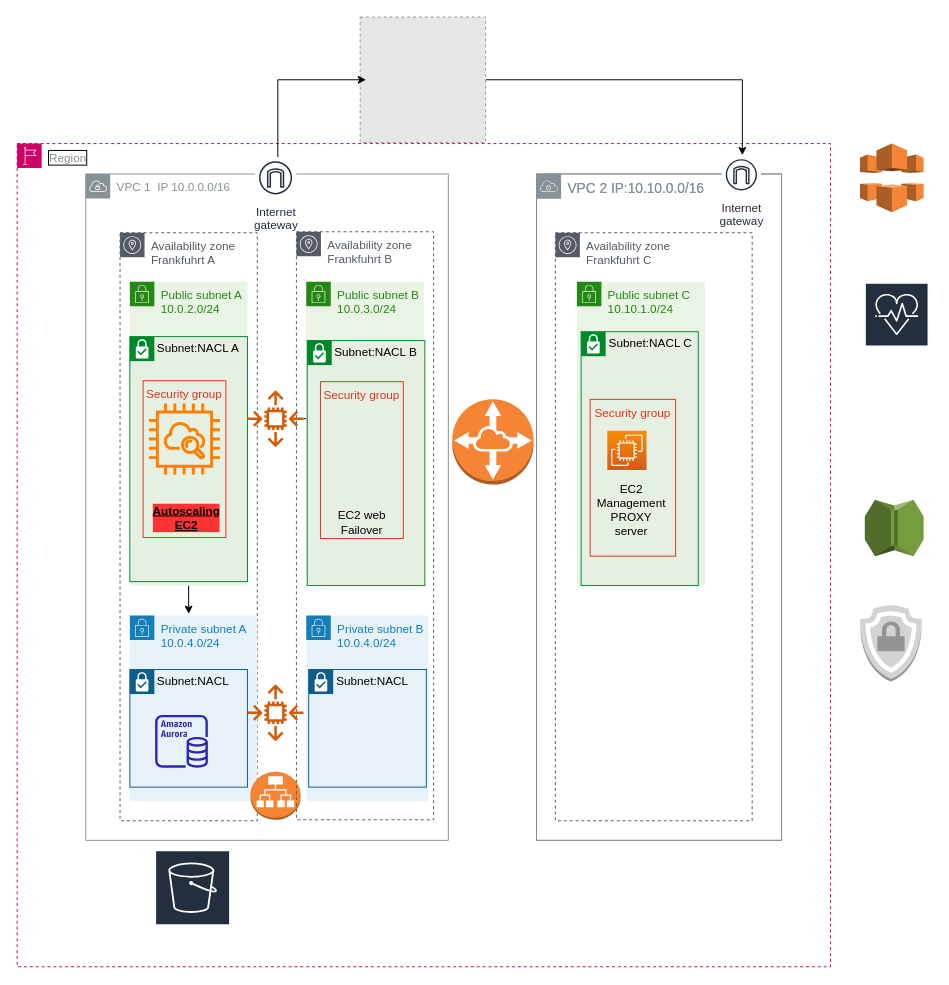
Image size: 949x985. Some labels were removed from this diagram. Grey dashed boxes stand in for pictures. The centre of each missing label's shape, as x and y in pixels:
Amazon S3 Static Content: point 192,903
AWS Personal Health Dashboard: point 896,336
AWS Shield: point 893,527
CloudFront: point 891,177
LoadBalancer: point 275,795
